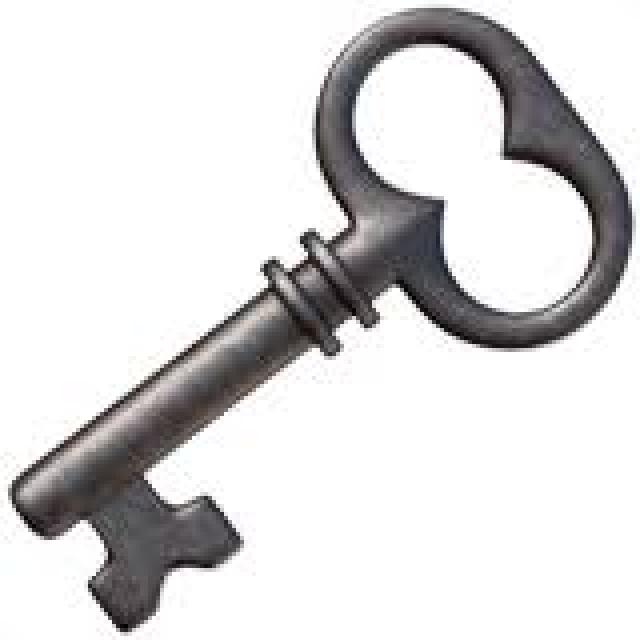key: (11, 2, 632, 640)
